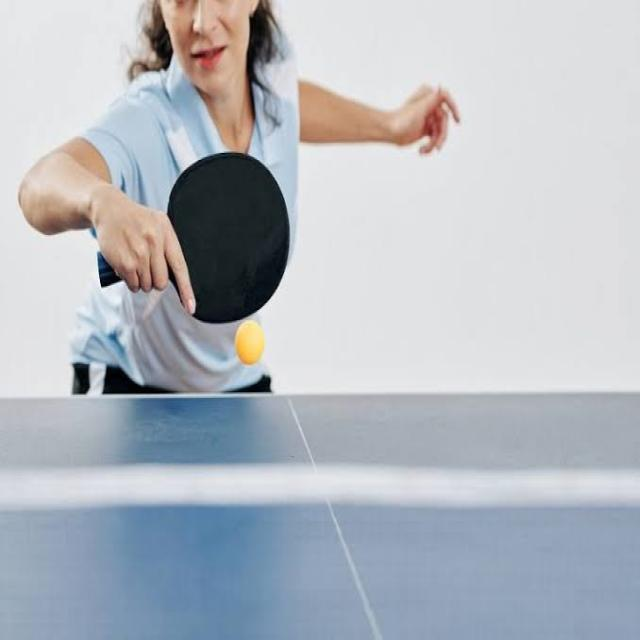TT Racket: (154, 128, 310, 341)
TT Table: (0, 391, 639, 639)
